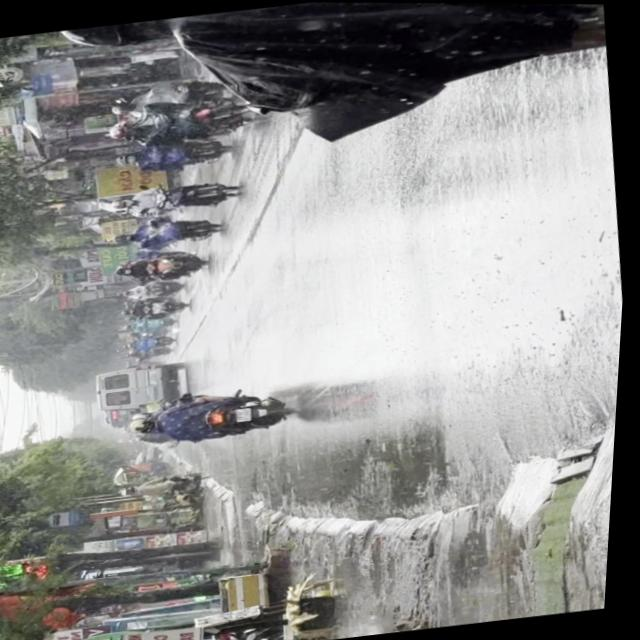helmet: (53, 17, 166, 53), (131, 415, 160, 433)
licenseplate: (42, 0, 614, 168), (126, 380, 304, 449)
nohelmet: (239, 406, 256, 421)
